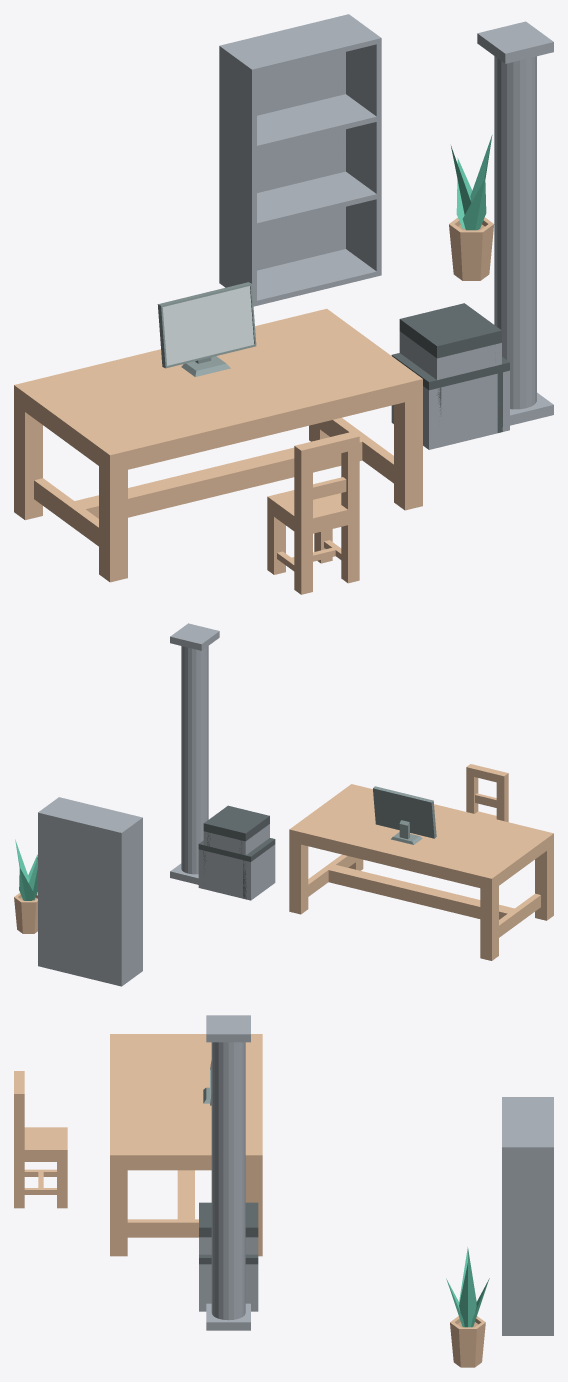
3 renders of one model, top to bottom at view 1: azimuth 30°, elevation 25°; view 2: azimuth 150°, elevation 25°; view 3: azimuth 270°, elevation 25°, orthographic. The views are drawn at different scales.
Parts seen in each view (by area): view 1: table_green__table(Clone), column_cyan__column_cyan shaft, shelf_orange__shelf_orange back, chair_cyan__chair(Clone), shelf_orange__shelf_orange side_l, monitor_gray__computerScreen(Clone), shelf_orange__shelf_orange side_r, crate_red__crate_red shell, shelf_orange__shelf_orange board3, shelf_orange__shelf_orange board1, shelf_orange__shelf_orange board2, shelf_orange__shelf_orange board0 (+7 smaller); view 2: table_green__table(Clone), shelf_orange__shelf_orange back, column_cyan__column_cyan shaft, shelf_orange__shelf_orange side_l, crate_red__crate_red shell, monitor_gray__computerScreen(Clone), chair_cyan__chair(Clone), shelf_orange__shelf_orange board3, bin_gray__bin_gray lid, bin_gray__bin_gray shell, column_cyan__column_cyan capital, plant_pink__pottedPlant(Clone) (+3 smaller); view 3: table_green__table(Clone), shelf_orange__shelf_orange side_r, column_cyan__column_cyan shaft, chair_cyan__chair(Clone), shelf_orange__shelf_orange board3, plant_pink__pottedPlant(Clone), column_cyan__column_cyan capital, crate_red__crate_red shell, plant_pink__plant, bin_gray__bin_gray lid, column_cyan__column_cyan plinth, bin_gray__bin_gray shell.
Boxes of the visible parts, bbox=[...] form: table_green__table(Clone): bbox=[14, 308, 422, 582]; column_cyan__column_cyan shaft: bbox=[494, 56, 536, 409]; shelf_orange__shelf_orange back: bbox=[224, 15, 345, 270]; chair_cyan__chair(Clone): bbox=[267, 431, 359, 594]; shelf_orange__shelf_orange side_l: bbox=[219, 44, 256, 306]; monitor_gray__computerScreen(Clone): bbox=[157, 282, 256, 376]; shelf_orange__shelf_orange side_r: bbox=[344, 14, 381, 276]; crate_red__crate_red shell: bbox=[391, 370, 509, 449]; shelf_orange__shelf_orange board3: bbox=[226, 16, 376, 73]; shelf_orange__shelf_orange board1: bbox=[257, 171, 376, 228]; shelf_orange__shelf_orange board2: bbox=[257, 94, 376, 150]; shelf_orange__shelf_orange board0: bbox=[257, 249, 376, 305]; table_green__table(Clone): bbox=[289, 784, 553, 960]; shelf_orange__shelf_orange back: bbox=[41, 812, 119, 985]; column_cyan__column_cyan shaft: bbox=[181, 646, 208, 874]; shelf_orange__shelf_orange side_l: bbox=[118, 817, 142, 986]; crate_red__crate_red shell: bbox=[198, 844, 275, 900]; monitor_gray__computerScreen(Clone): bbox=[373, 786, 436, 844]; chair_cyan__chair(Clone): bbox=[466, 764, 508, 822]; shelf_orange__shelf_orange board3: bbox=[42, 798, 139, 831]; bin_gray__bin_gray lid: bbox=[203, 805, 269, 841]; bin_gray__bin_gray shell: bbox=[203, 824, 269, 855]; column_cyan__column_cyan capital: bbox=[170, 623, 219, 650]; plant_pink__pottedPlant(Clone): bbox=[14, 893, 37, 933]; table_green__table(Clone): bbox=[110, 1034, 262, 1256]; shelf_orange__shelf_orange side_r: bbox=[502, 1145, 553, 1335]; column_cyan__column_cyan shaft: bbox=[211, 1042, 245, 1320]; chair_cyan__chair(Clone): bbox=[14, 1071, 67, 1208]; shelf_orange__shelf_orange board3: bbox=[502, 1099, 550, 1145]; plant_pink__pottedPlant(Clone): bbox=[450, 1316, 485, 1367]; column_cyan__column_cyan capital: bbox=[206, 1015, 250, 1042]; crate_red__crate_red shell: bbox=[199, 1264, 258, 1311]; plant_pink__plant: bbox=[446, 1247, 489, 1327]; bin_gray__bin_gray lid: bbox=[199, 1202, 258, 1237]; column_cyan__column_cyan plinth: bbox=[206, 1303, 250, 1330]; bin_gray__bin_gray shell: bbox=[199, 1237, 258, 1254].
Bounding box in the file's own units: 3.75 × 2.2 × 3.63.
